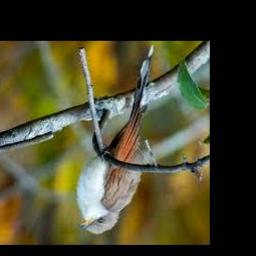Cuckoo: (77, 45, 154, 234)
